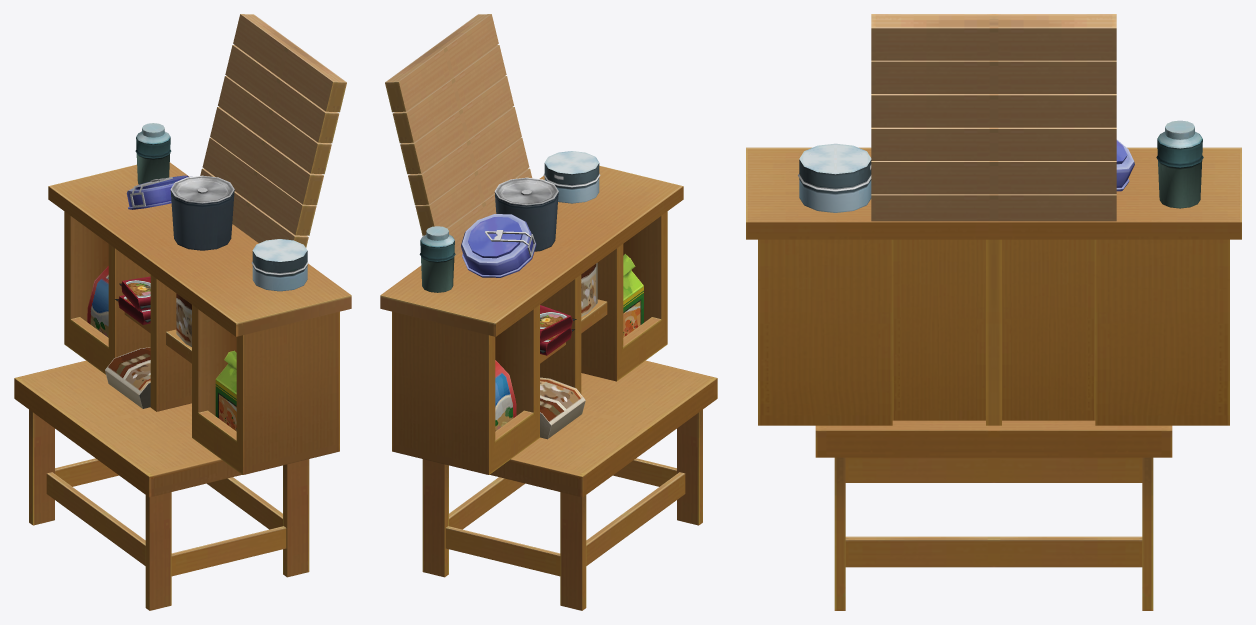
Rendered from my_military_01_countertop_01.glb.
3 views of the same model, side by side, from view 1: azimuth 30°, elevation 25°; view 2: azimuth 150°, elevation 25°; view 3: azimuth 270°, elevation 25° (orthographic). The views are drawn at different scales.
Parts seen in each view (by area): view 1: my_military_01_countertop_01; view 2: my_military_01_countertop_01; view 3: my_military_01_countertop_01.
Boxes of the visible parts, left/top/right/bottom form: my_military_01_countertop_01: left=14, top=14, right=351, bottom=610; my_military_01_countertop_01: left=380, top=14, right=717, bottom=610; my_military_01_countertop_01: left=746, top=14, right=1241, bottom=610.
Size of the model in its own units: 0.00564 by 0.0116 by 0.00838.
Materials: 1 (1 with a texture image).
